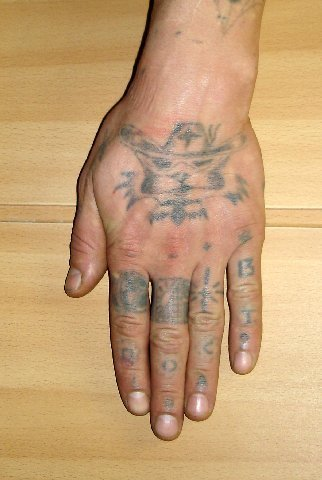tatu3_bukva: (116, 342, 147, 371), (234, 254, 260, 280), (157, 355, 183, 376), (197, 339, 221, 361), (192, 372, 213, 394), (240, 309, 259, 325)
tatu8_kot: (107, 118, 264, 231)
